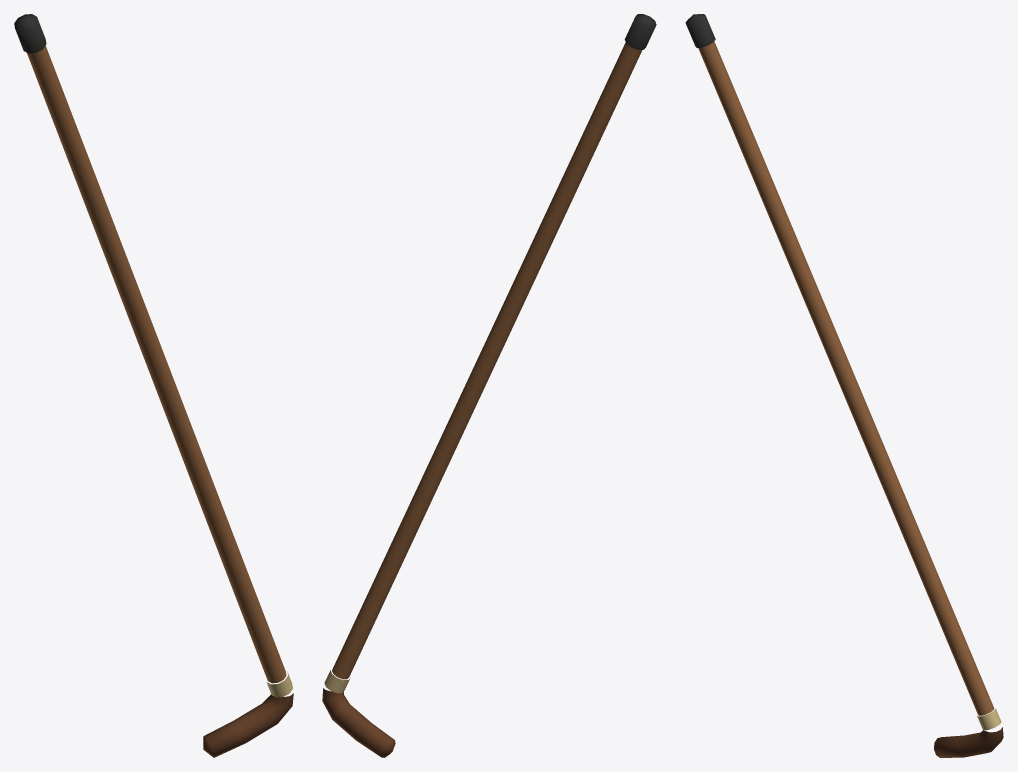
Rendered from old-cane-flavio-hipotetico.glb.
3 views of the same model, side by side, from view 1: azimuth 30°, elevation 25°; view 2: azimuth 150°, elevation 25°; view 3: azimuth 330°, elevation 25° (orthographic). The views are drawn at different scales.
Visible parts, largest first — view 1: Acc_Male_Hand_Cane; view 2: Acc_Male_Hand_Cane; view 3: Acc_Male_Hand_Cane.
Part boxes in pixels (x1,y1,x2,y2): Acc_Male_Hand_Cane: (14, 14, 293, 757); Acc_Male_Hand_Cane: (322, 14, 656, 757); Acc_Male_Hand_Cane: (685, 14, 1003, 757).
Size of the model in its own units: 0.1788 by 0.446 by 0.0599.
